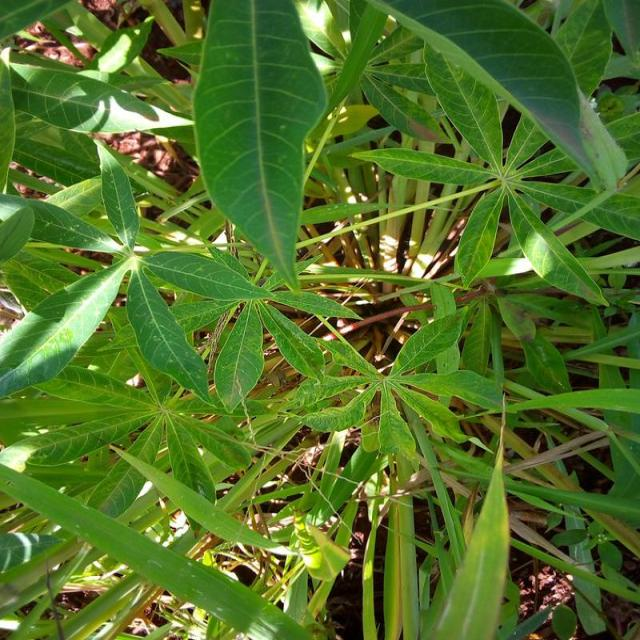cassava leaf: (190, 0, 328, 291)
